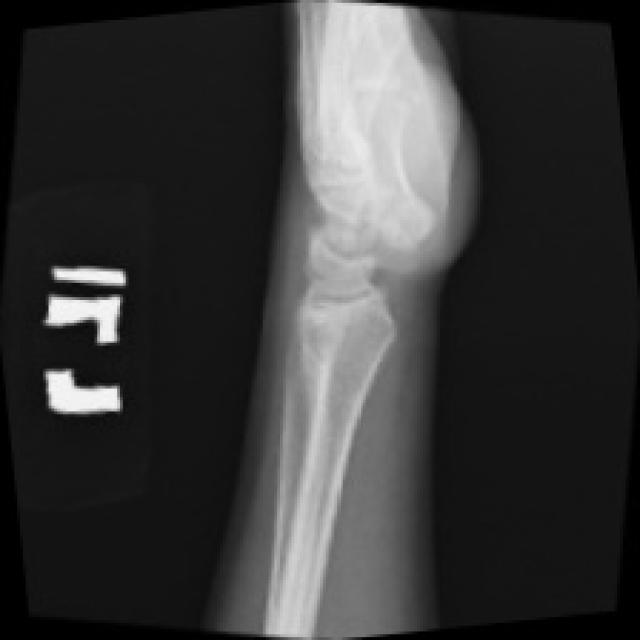fracture: (298, 200, 473, 397)
